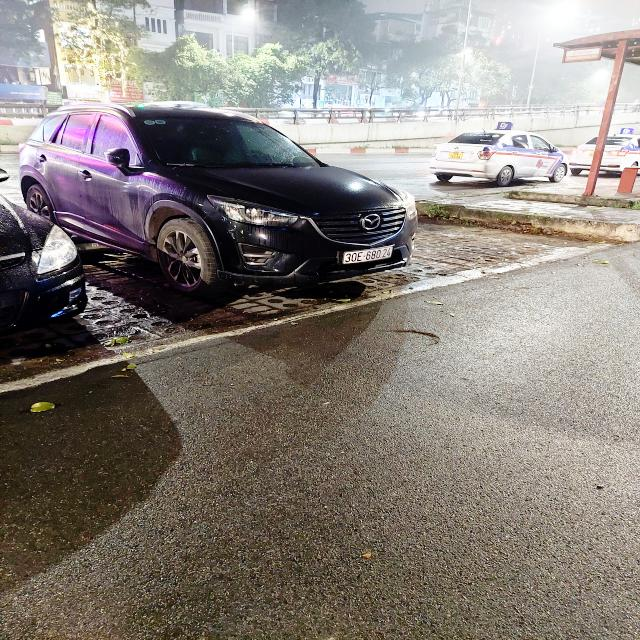license_plate: (343, 244, 397, 266), (449, 151, 465, 161)
